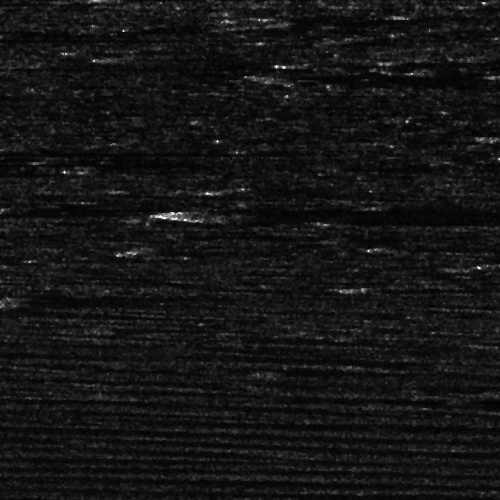object: (143, 205, 258, 220), (219, 366, 334, 375), (105, 243, 178, 254), (0, 293, 59, 304), (327, 284, 410, 289)
shadow: (0, 141, 285, 160), (200, 205, 500, 220), (0, 154, 198, 173), (22, 293, 276, 304), (0, 32, 244, 43), (142, 243, 315, 254), (277, 366, 455, 375), (0, 208, 96, 217), (369, 284, 462, 289)
